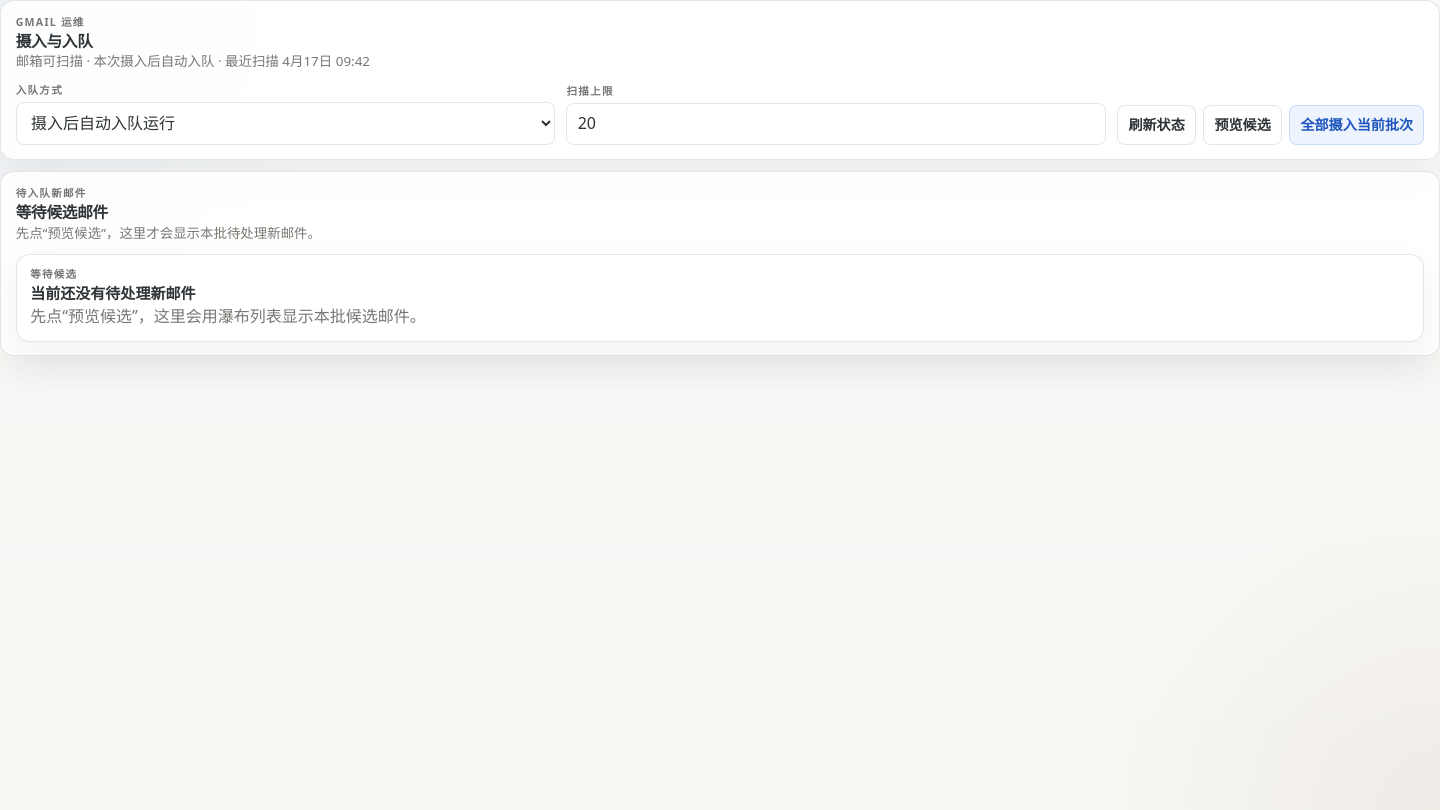
Test: GmailOpsPageV2 › renders the compact action row, candidate waterfall, and batch notice
Check: the heading "摄入与入队" is shown, box [16,30,92,52]
Check: the text "邮箱可扫描 · 本次摄入后自动入队 · 最近扫描 4月17日 09:42" is shown, box [16,52,370,71]
Click the button "预览候选". click: (1243, 125)
box: [1203,105,1282,145]
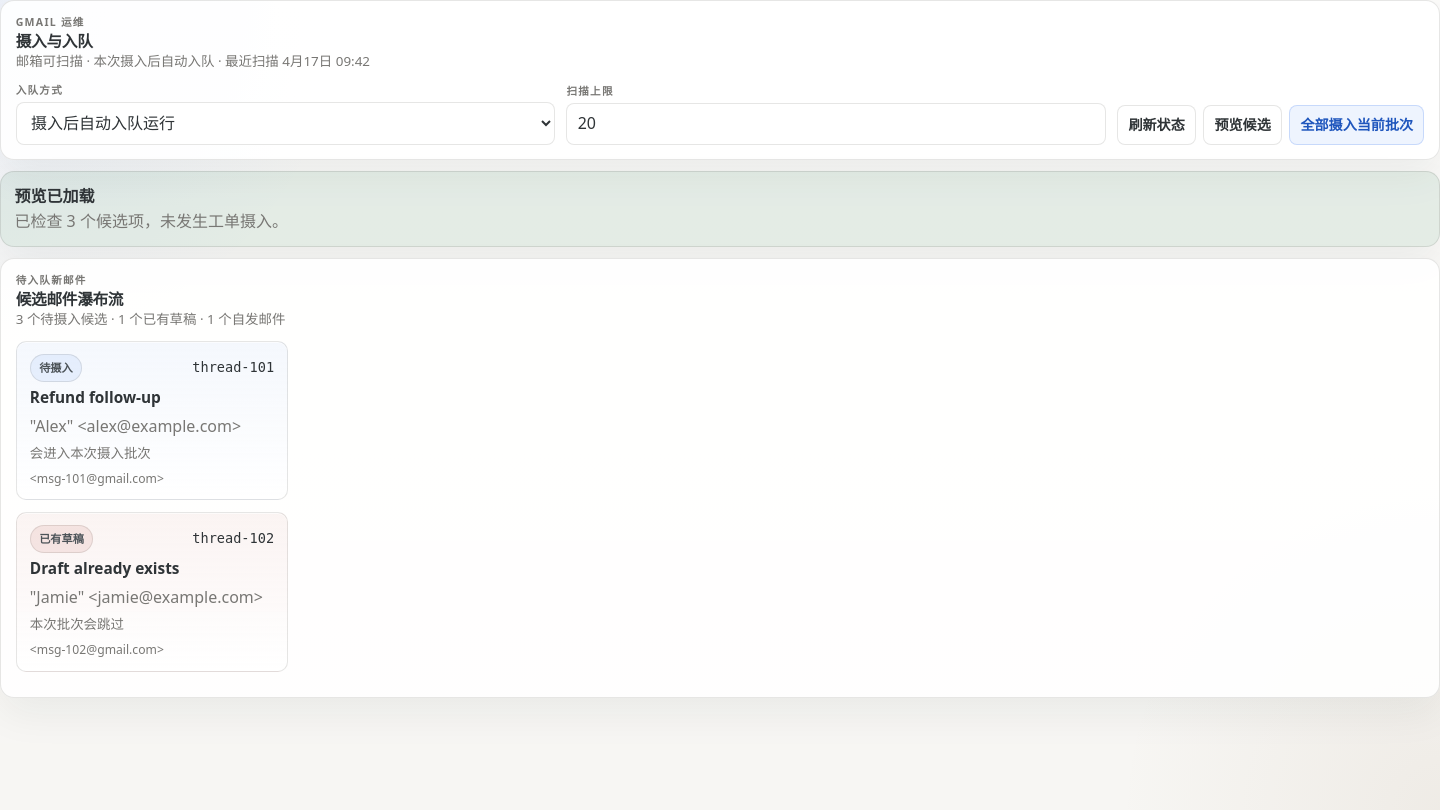
Check: the text "预览已加载" is shown, box [14,184,94,206]
Check: the text "3 个待摄入候选 · 1 个已有草稿 · 1 个自发邮件" is shown, box [16,310,285,329]
Check: the text "Refund follow-up" is shown, box [30,387,161,408]
Click the button "全部摄入当前批次". click: (1357, 125)
box: [1289,105,1424,145]
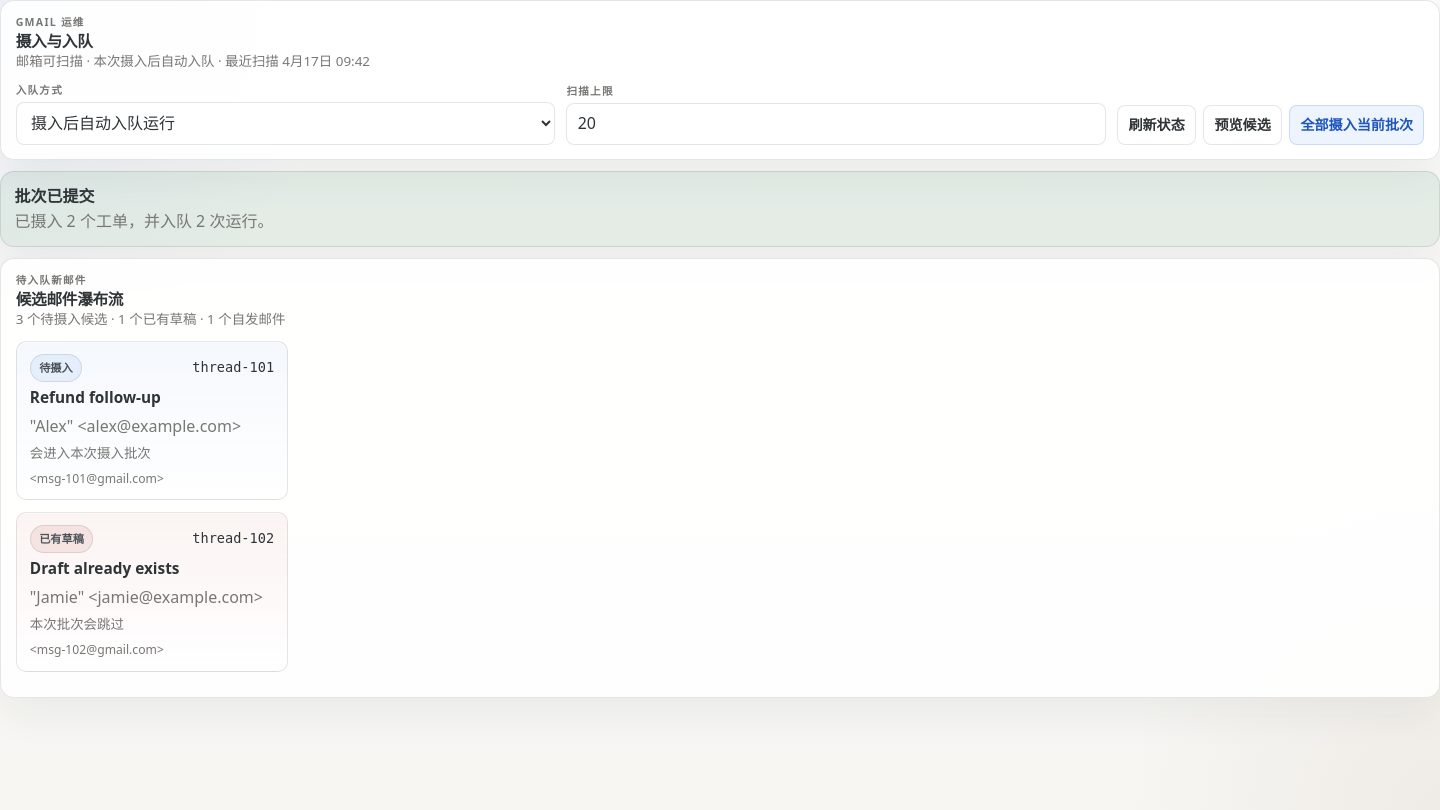
Check: the text "批次已提交" is shown, box [14,184,94,206]
Check: the text "已摄入 2 个工单，并入队 2 次运行。" is shown, box [14,210,273,232]
